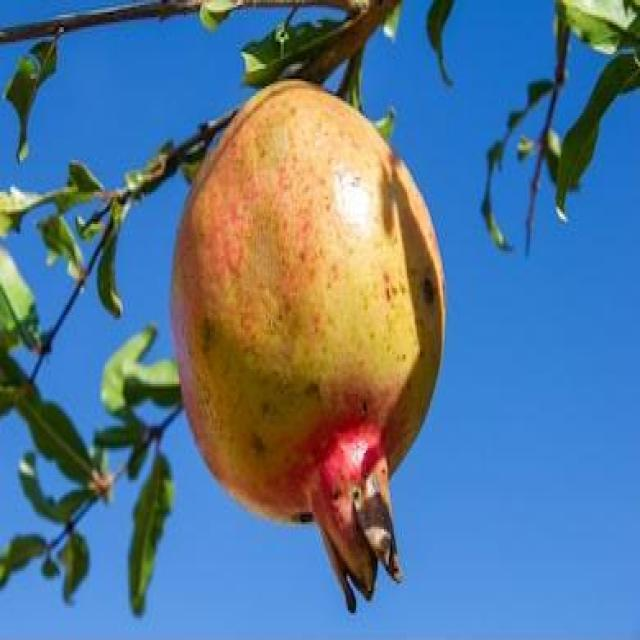Pomegranate: (170, 78, 447, 612)
